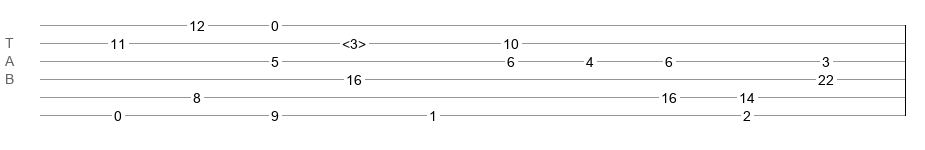0: (114, 108, 122, 118), (271, 18, 279, 28)
1: (429, 108, 437, 118)
10: (503, 36, 519, 46)
11: (110, 36, 126, 46)
12: (189, 18, 205, 28)
14: (739, 90, 755, 100)
16: (346, 72, 362, 82), (661, 90, 677, 100)
2: (743, 108, 751, 118)
22: (818, 72, 834, 82)
3: (822, 54, 830, 64)
4: (586, 54, 594, 64)
5: (271, 54, 279, 64)
6: (507, 54, 515, 64), (665, 54, 673, 64)
8: (193, 90, 201, 100)
9: (271, 108, 279, 118)
harmonic: (342, 36, 366, 46)
